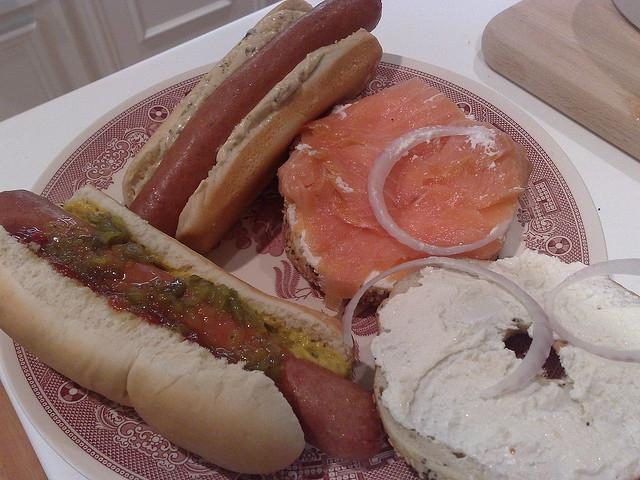onion: (343, 257, 553, 399), (367, 125, 515, 256), (544, 259, 640, 362)
